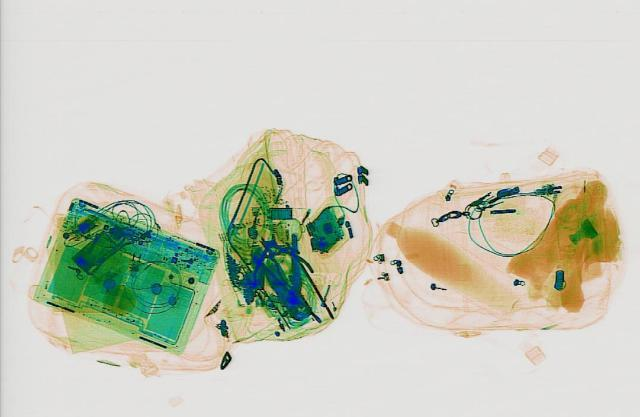Pliers: (235, 231, 329, 324), (230, 231, 316, 286)
